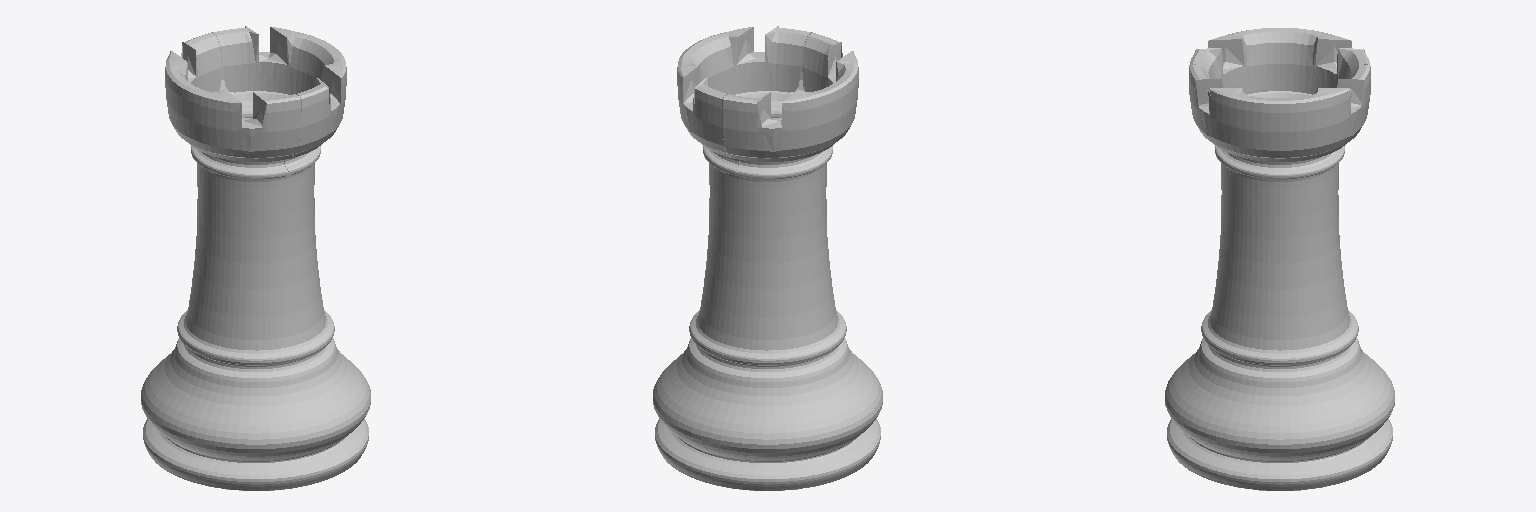
File: rook.obj
3 renders of one model, left to right at view 1: azimuth 30°, elevation 25°; view 2: azimuth 150°, elevation 25°; view 3: azimuth 270°, elevation 25°, orthographic.
Parts seen in each view (by area): view 1: rook_white_1_Cylinder.031; view 2: rook_white_1_Cylinder.031; view 3: rook_white_1_Cylinder.031.
Boxes of the visible parts, box(x1,y1,x2,y2) form: rook_white_1_Cylinder.031: box(141, 26, 370, 490); rook_white_1_Cylinder.031: box(653, 26, 882, 490); rook_white_1_Cylinder.031: box(1165, 28, 1394, 490).
Bounding box in the file's own units: 1.18 × 2.18 × 1.18.